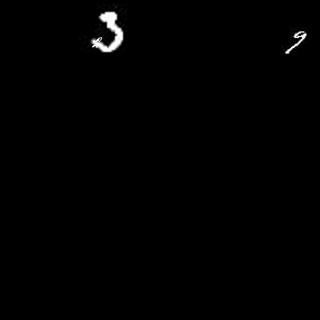nine: (283, 28, 307, 55)
three: (93, 10, 121, 52)
